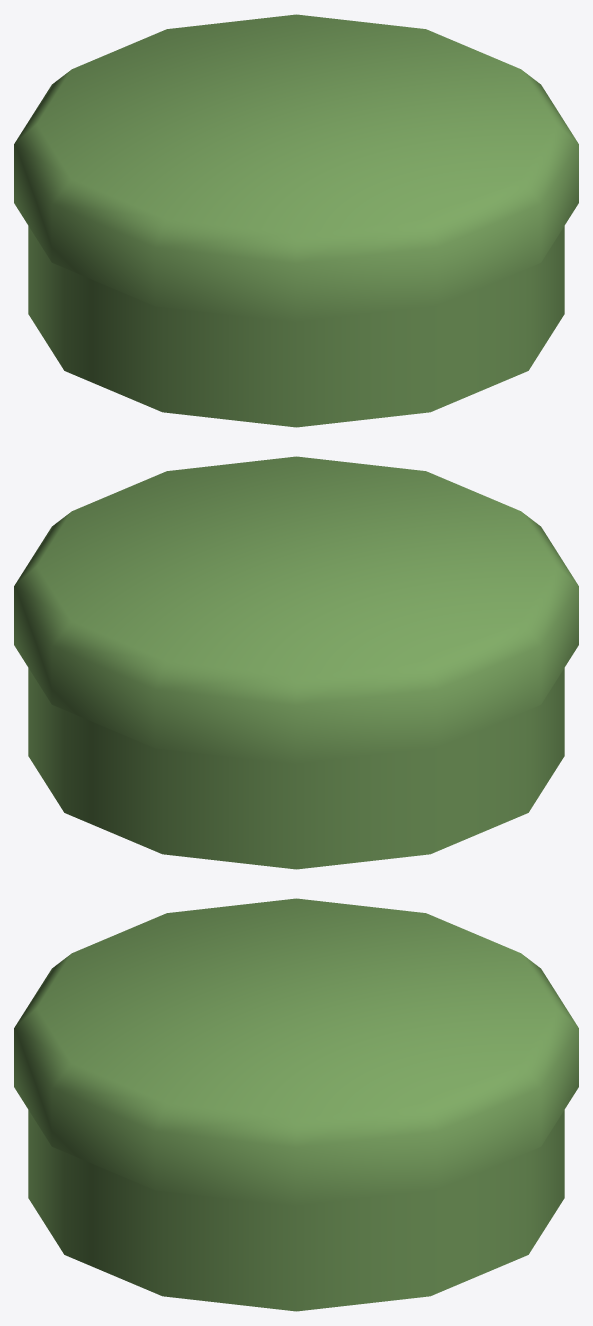
Rendered from MoistureCream_02.fbx.
3 renders of one model, top to bottom at view 1: azimuth 30°, elevation 25°; view 2: azimuth 150°, elevation 25°; view 3: azimuth 270°, elevation 25°, orthographic.
Parts seen in each view (by area): view 1: MoistureCream_02_Lid, MoistureCream_02; view 2: MoistureCream_02_Lid, MoistureCream_02; view 3: MoistureCream_02_Lid, MoistureCream_02.
Boxes of the visible parts, x1=… form: MoistureCream_02_Lid: x1=14, y1=14, x2=578, y2=322; MoistureCream_02: x1=28, y1=226, x2=564, y2=427; MoistureCream_02_Lid: x1=14, y1=456, x2=578, y2=764; MoistureCream_02: x1=28, y1=668, x2=564, y2=869; MoistureCream_02_Lid: x1=14, y1=898, x2=578, y2=1206; MoistureCream_02: x1=28, y1=1110, x2=564, y2=1311.
Bounding box in the file's own units: 0.1162 × 0.0431 × 0.1162.
